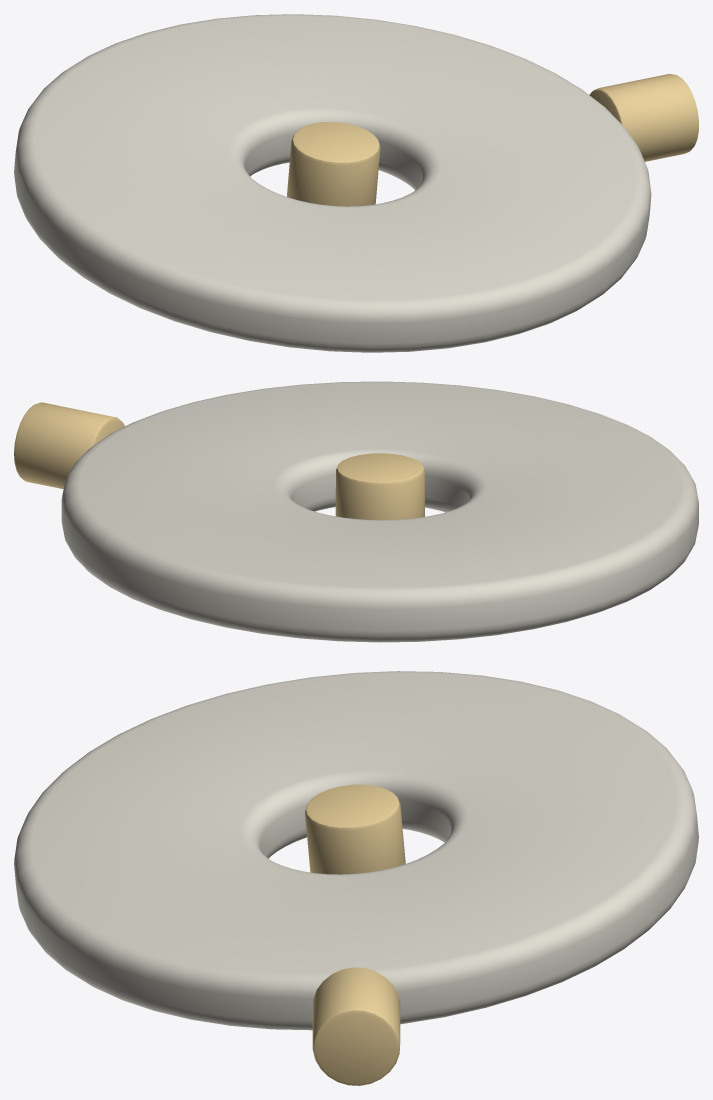
The model's file is HID-INC-002_anim.glb.
3 views of the same model, one above another, from view 1: azimuth 30°, elevation 25°; view 2: azimuth 150°, elevation 25°; view 3: azimuth 270°, elevation 25° (orthographic). The views are drawn at different scales.
Visible parts, largest first — view 1: HID-INC-002_anim0; view 2: HID-INC-002_anim0; view 3: HID-INC-002_anim0.
Boxes of the visible parts, <box> form: HID-INC-002_anim0: <box>14,14,698,352</box>; HID-INC-002_anim0: <box>14,381,698,642</box>; HID-INC-002_anim0: <box>14,671,698,1085</box>.
Bounding box in the file's own units: 0.5661 × 0.0878 × 0.4998.
